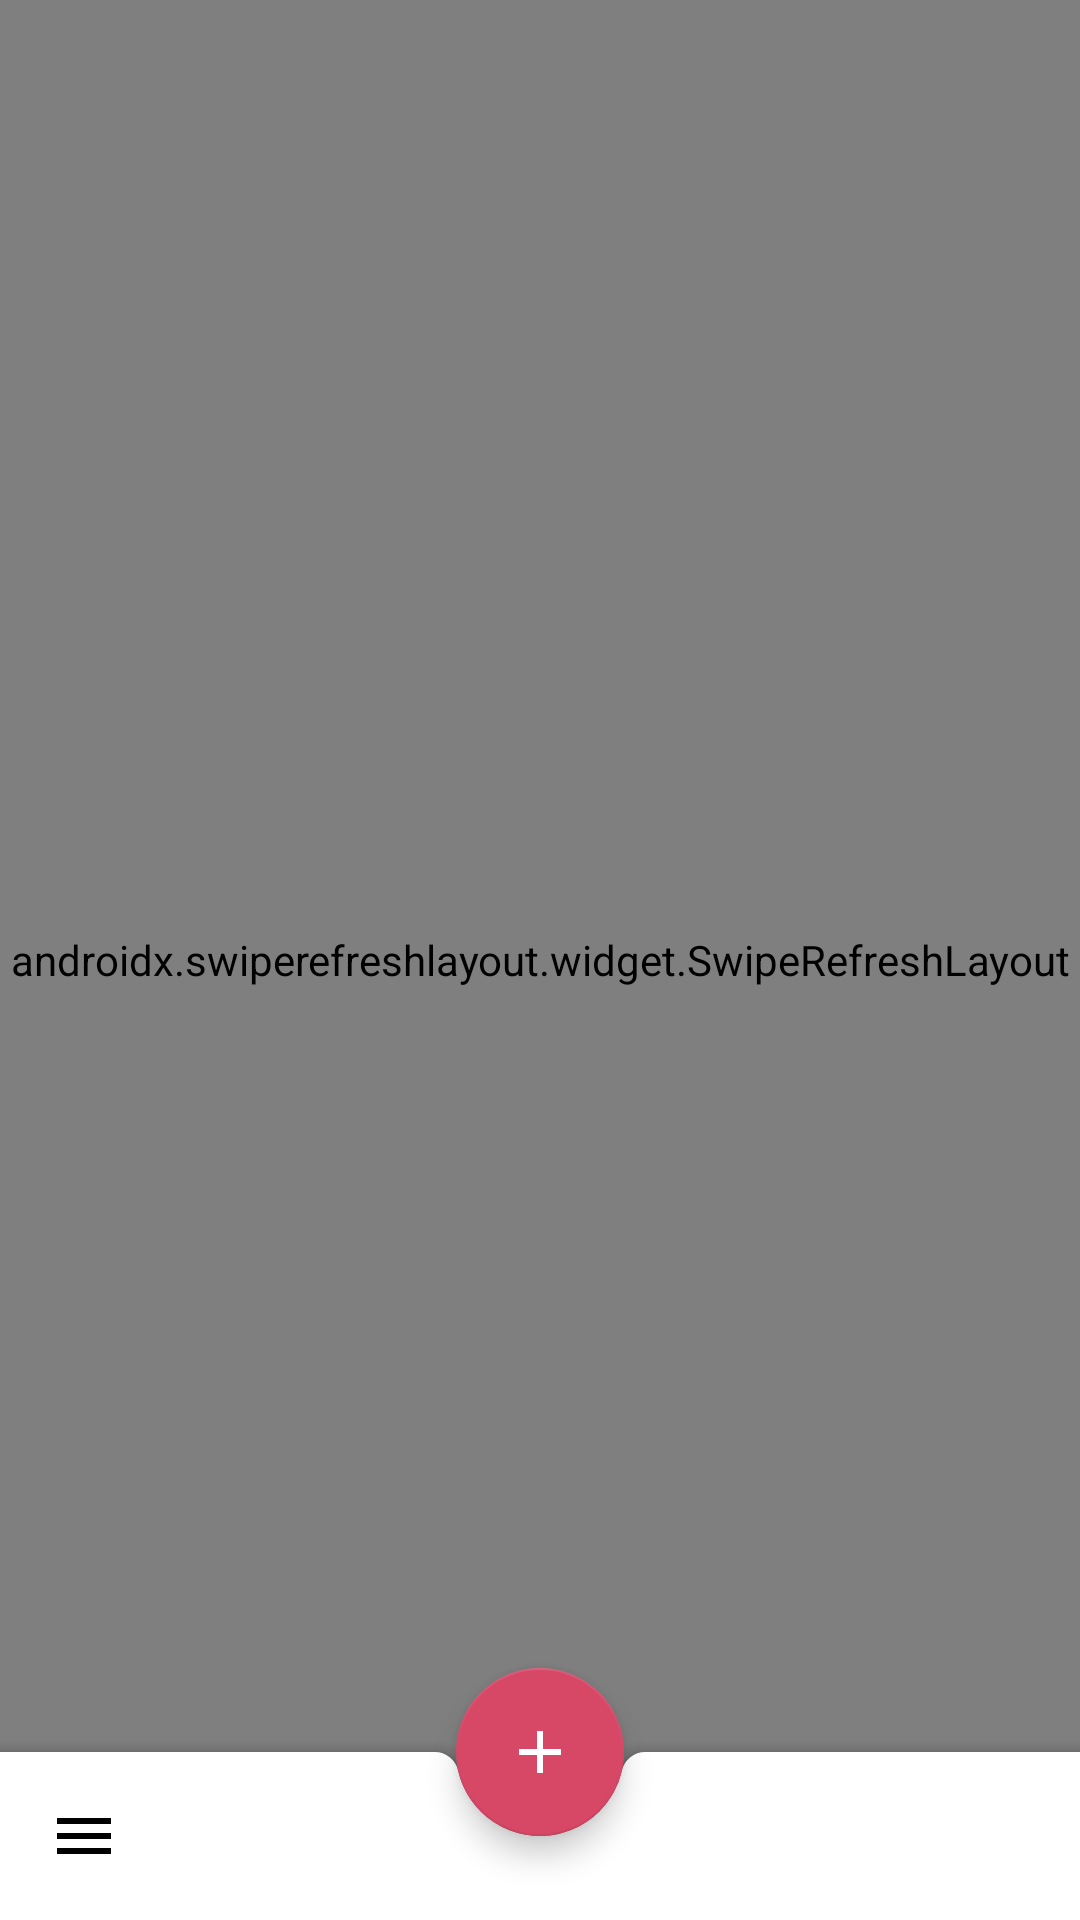

Screen size 1080×1920. Icon name, then its center in pixels as point (x, y):
add: point (540, 1752)
